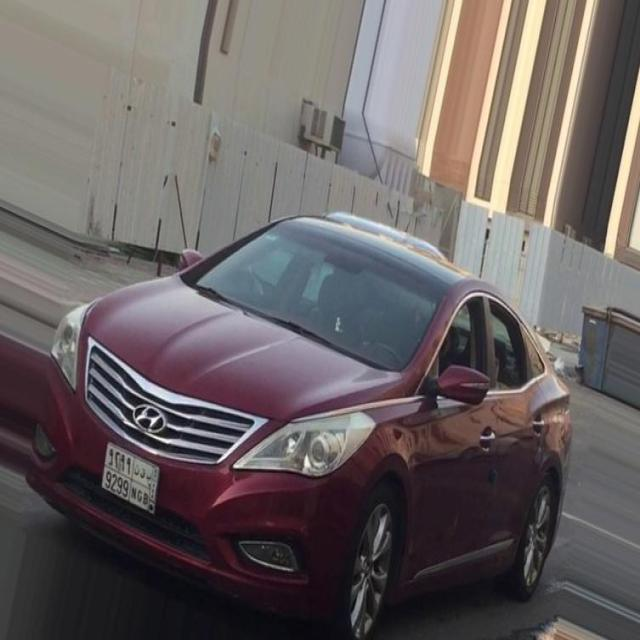Car-plate: (95, 431, 166, 524)
